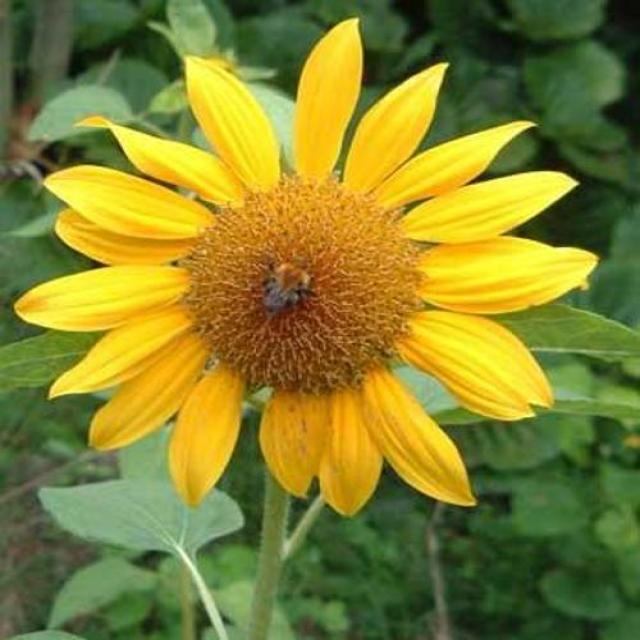sunflower: (4, 10, 603, 514)
